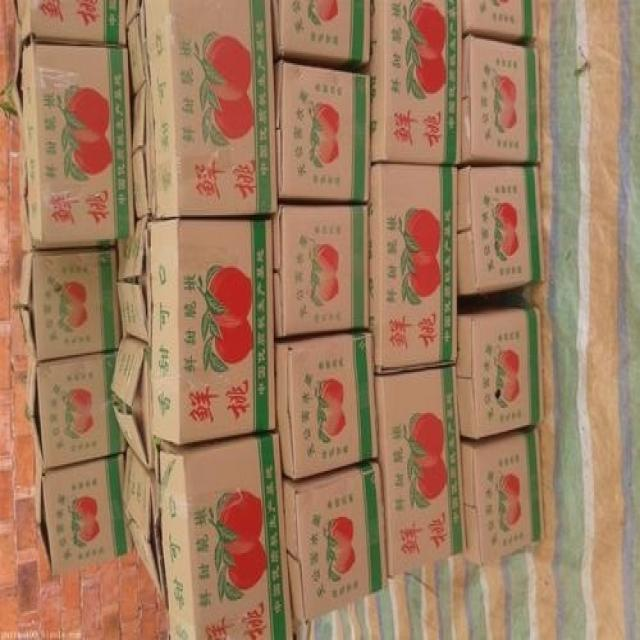box: (315, 188, 479, 370), (0, 203, 157, 393), (145, 201, 317, 369), (289, 27, 451, 181), (47, 500, 206, 623), (198, 492, 357, 609), (13, 377, 136, 519), (357, 476, 479, 616), (120, 365, 233, 505), (224, 362, 332, 492), (328, 365, 435, 493), (49, 48, 141, 179), (211, 22, 294, 162), (128, 39, 218, 167), (426, 362, 479, 493), (29, 166, 147, 217), (127, 148, 228, 205), (444, 20, 479, 169), (220, 152, 319, 201), (150, 608, 256, 640), (255, 609, 356, 640), (315, 174, 422, 203), (55, 609, 152, 640), (356, 614, 456, 640), (407, 167, 480, 200)
